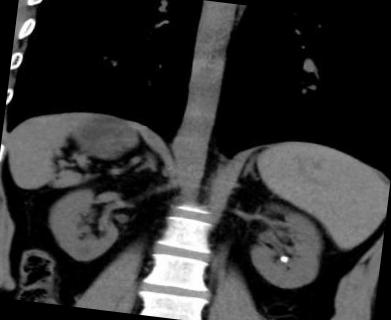Tas_Var: (274, 251, 294, 266)
